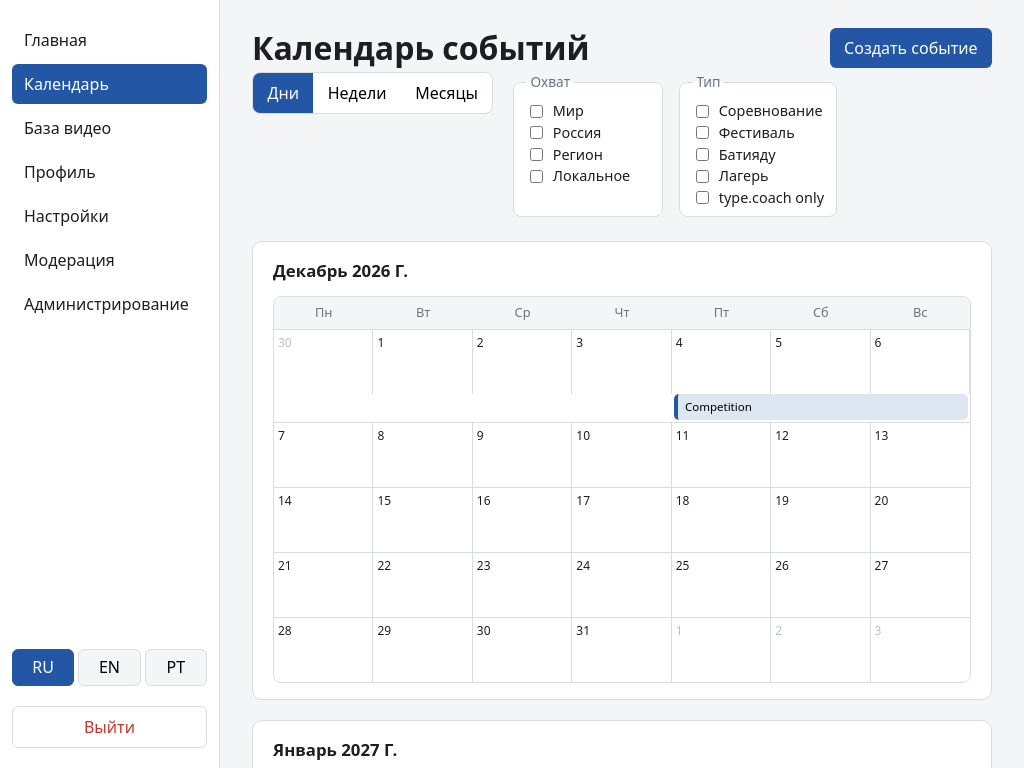
Test: Calendar page › filters events by scope
Click the checkbox labelled "Мир" at (537, 111), box top-left (530, 105), bottom-right (543, 118)
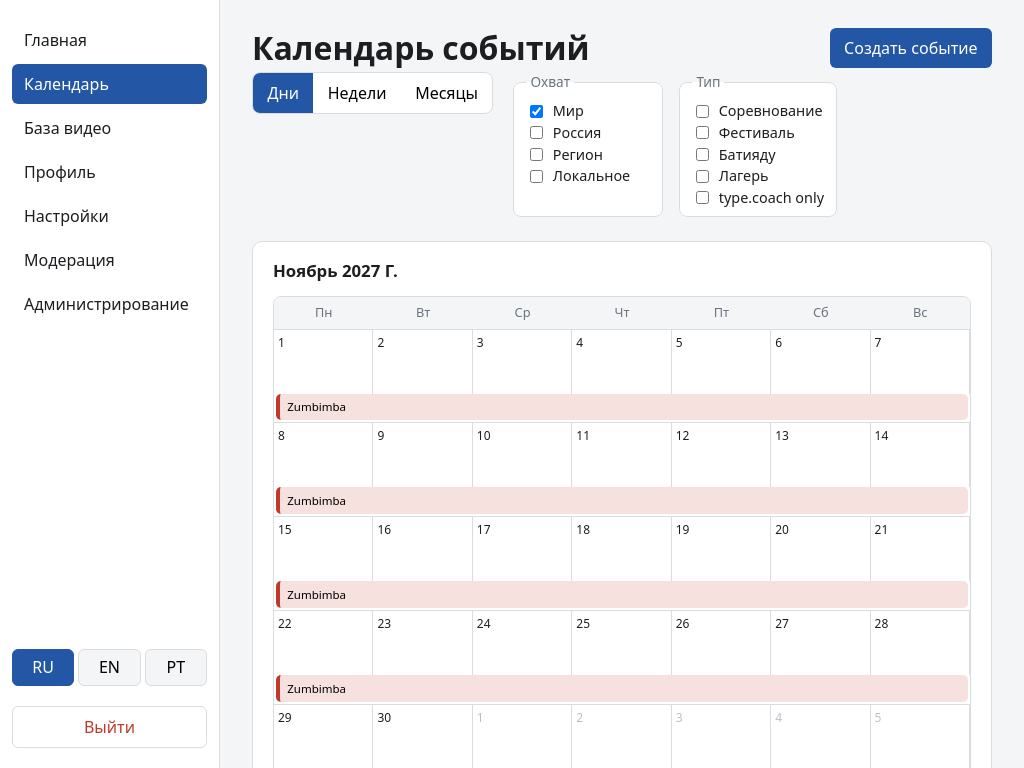
Expected: the 1st button "Zumbimba" is shown, top-left (276, 394), bottom-right (968, 420)
Expected: the button "Competition" is gone
Click the checkbox labelled "Мир" at (537, 111), box top-left (530, 105), bottom-right (543, 118)
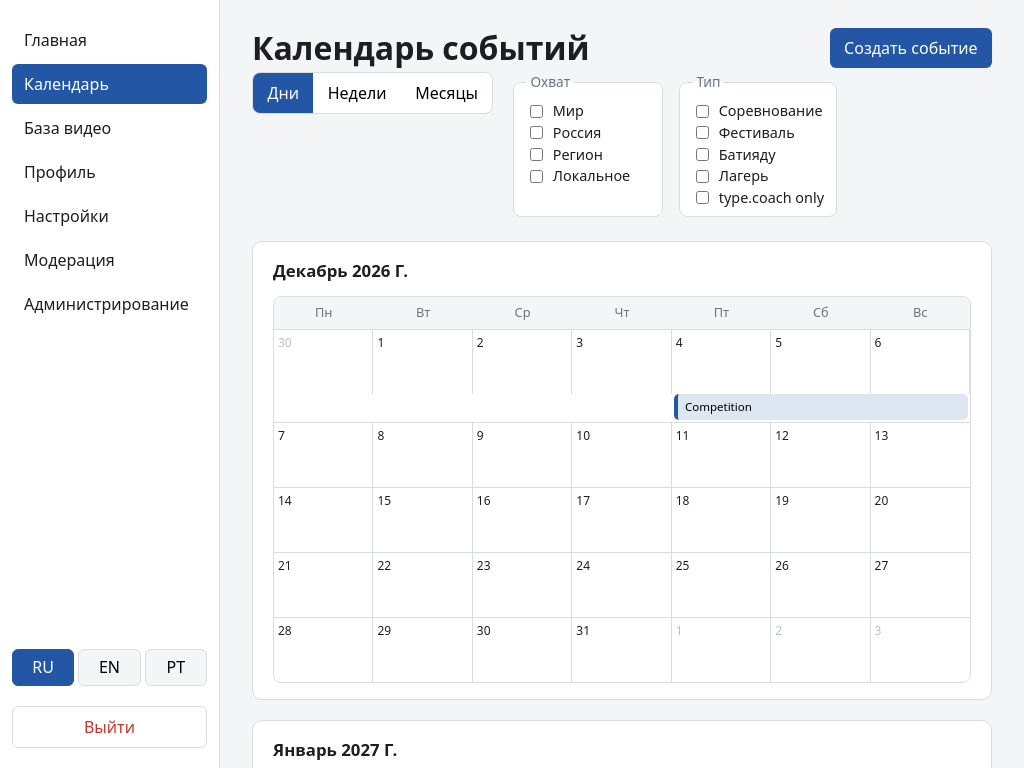
Expected: the button "Competition" is shown, top-left (674, 394), bottom-right (968, 420)
